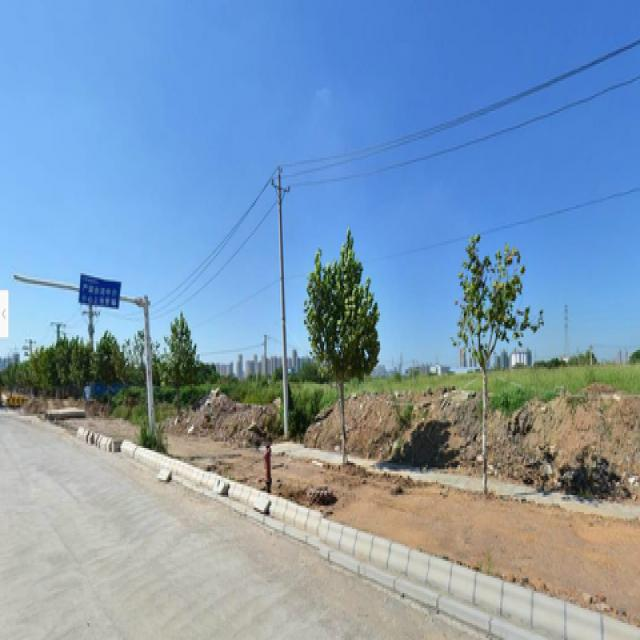meta: (304, 245, 367, 448)
